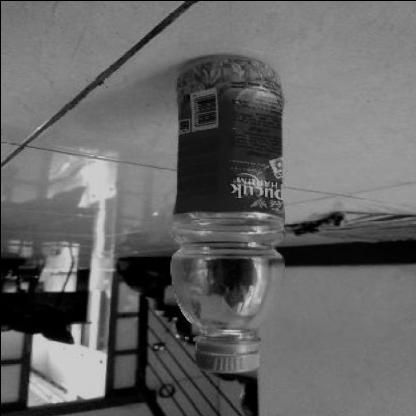plastic_bottles: (167, 54, 290, 373)
